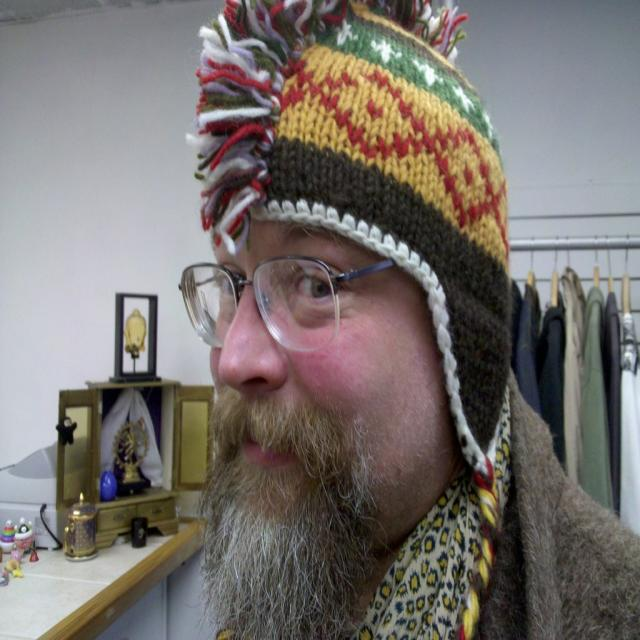Glasses: (194, 249, 405, 350)
